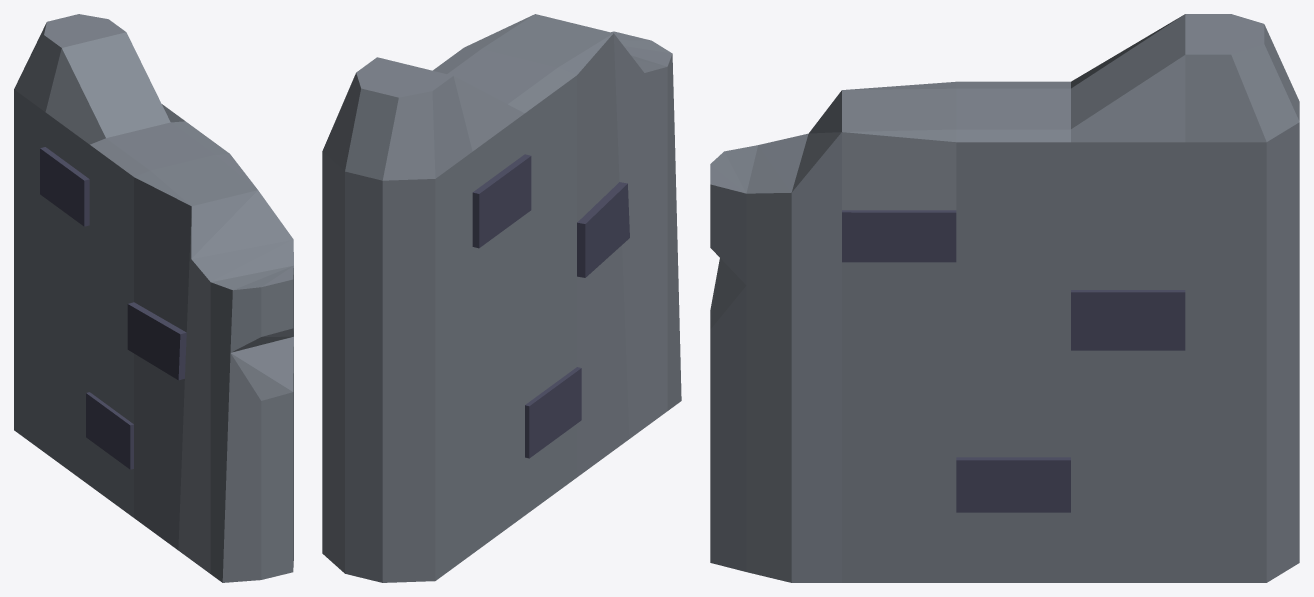
Rendered from CastleWall_small.fbx.
3 renders of one model, left to right at view 1: azimuth 30°, elevation 25°; view 2: azimuth 150°, elevation 25°; view 3: azimuth 270°, elevation 25°, orthographic. The views are drawn at different scales.
Parts seen in each view (by area): view 1: Cube; view 2: Cube; view 3: Cube.
Part boxes in pixels (box(x1,y1,x2,y2)): Cube: box(14, 14, 293, 582); Cube: box(322, 14, 681, 582); Cube: box(710, 14, 1299, 582).
Bounding box in the file's own units: 112 × 400 × 412.
